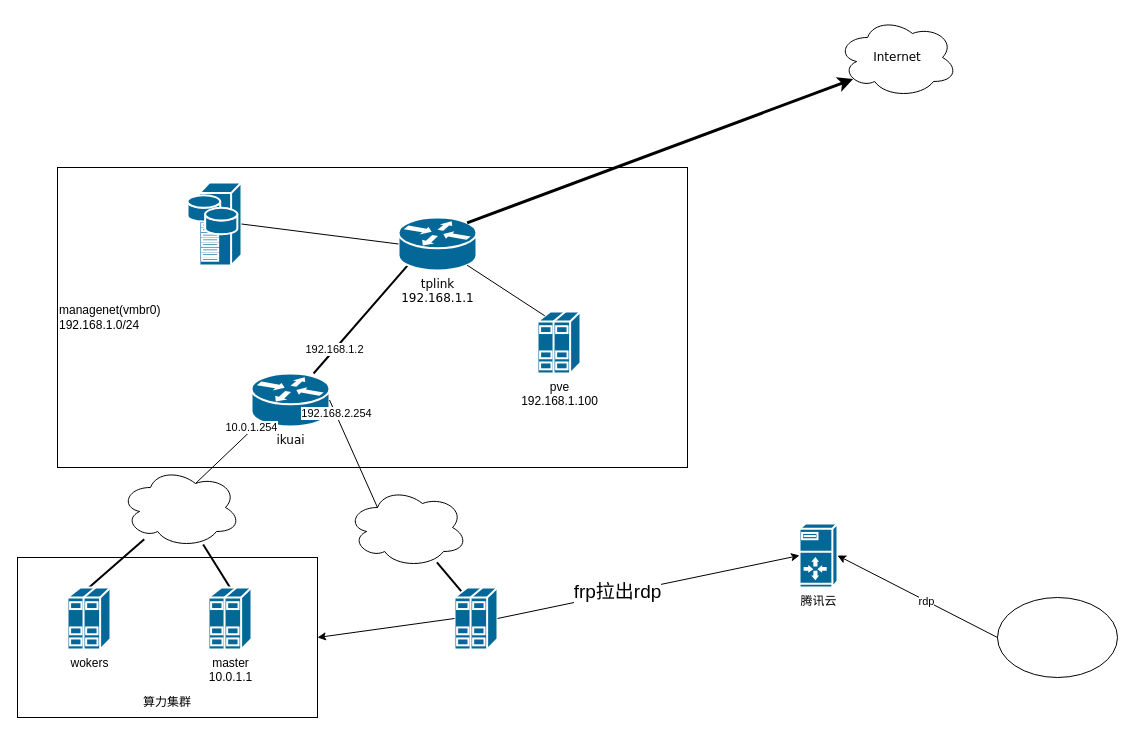
Some shapes in this 1135 by 735 pixel diagram are drawn without their labels. Here are the shapes that lost their labels. From the top down, the centre of each, then its label:
the point at 214,223: truenas
the point at 180,507: computenet 10.0.1.0/24
the point at 407,527: usernet 192.168.2.0/24
the point at 475,618: winserver 192.168.2.1
the point at 1057,637: users
